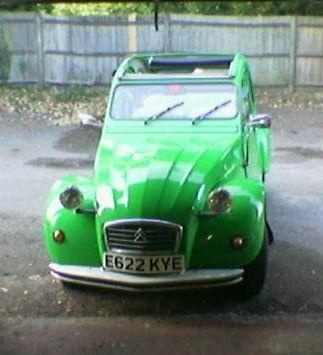car: (42, 52, 273, 301)
